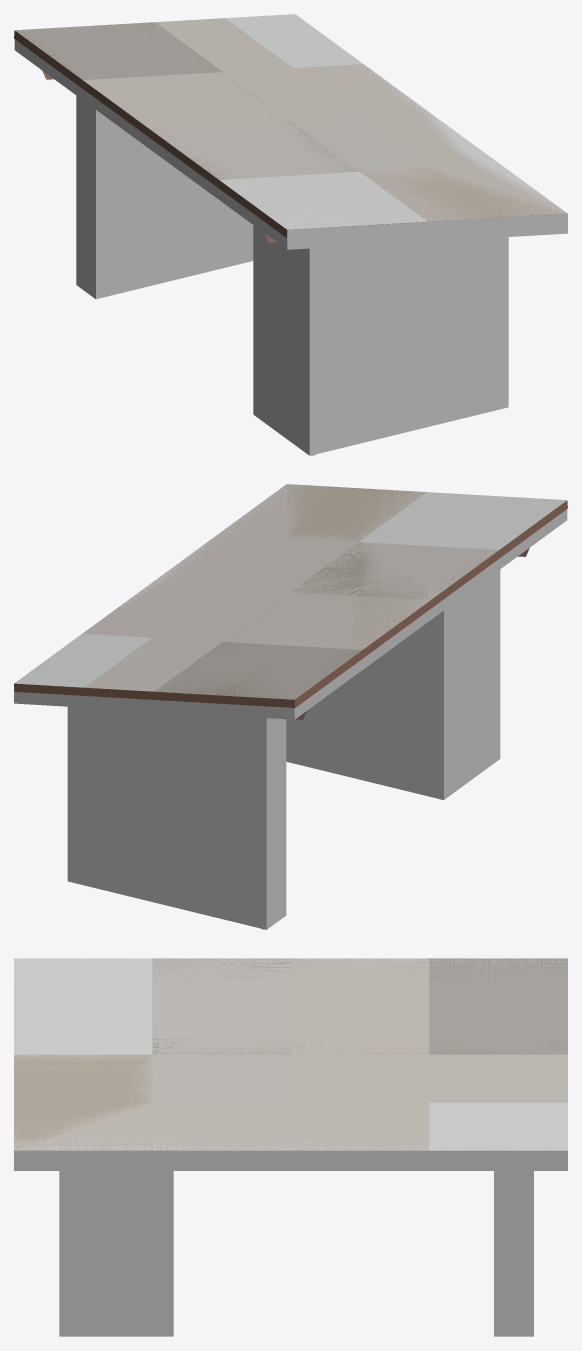
The model's file is leanto_small.dae.
3 renders of one model, top to bottom at view 1: azimuth 30°, elevation 25°; view 2: azimuth 150°, elevation 25°; view 3: azimuth 270°, elevation 25°, orthographic.
Visible parts, largest first — view 1: Colmesh-1, leanto_small_a050, leanto_small_a250; view 2: Colmesh-1, leanto_small_a050, leanto_small_a250; view 3: leanto_small_a050, Colmesh-1, leanto_small_a250.
Boxes of the visible parts, x1=… form: Colmesh-1: x1=14, y1=14, x2=567, y2=455; leanto_small_a050: x1=14, y1=14, x2=567, y2=237; leanto_small_a250: x1=16, y1=22, x2=565, y2=455; Colmesh-1: x1=14, y1=484, x2=567, y2=929; leanto_small_a050: x1=14, y1=484, x2=567, y2=707; leanto_small_a250: x1=155, y1=484, x2=563, y2=929; leanto_small_a050: x1=14, y1=958, x2=567, y2=1150; Colmesh-1: x1=14, y1=958, x2=567, y2=1336; leanto_small_a250: x1=14, y1=958, x2=567, y2=1149.
Bounding box in the file's own units: 5.43 × 9.12 × 4.73.
